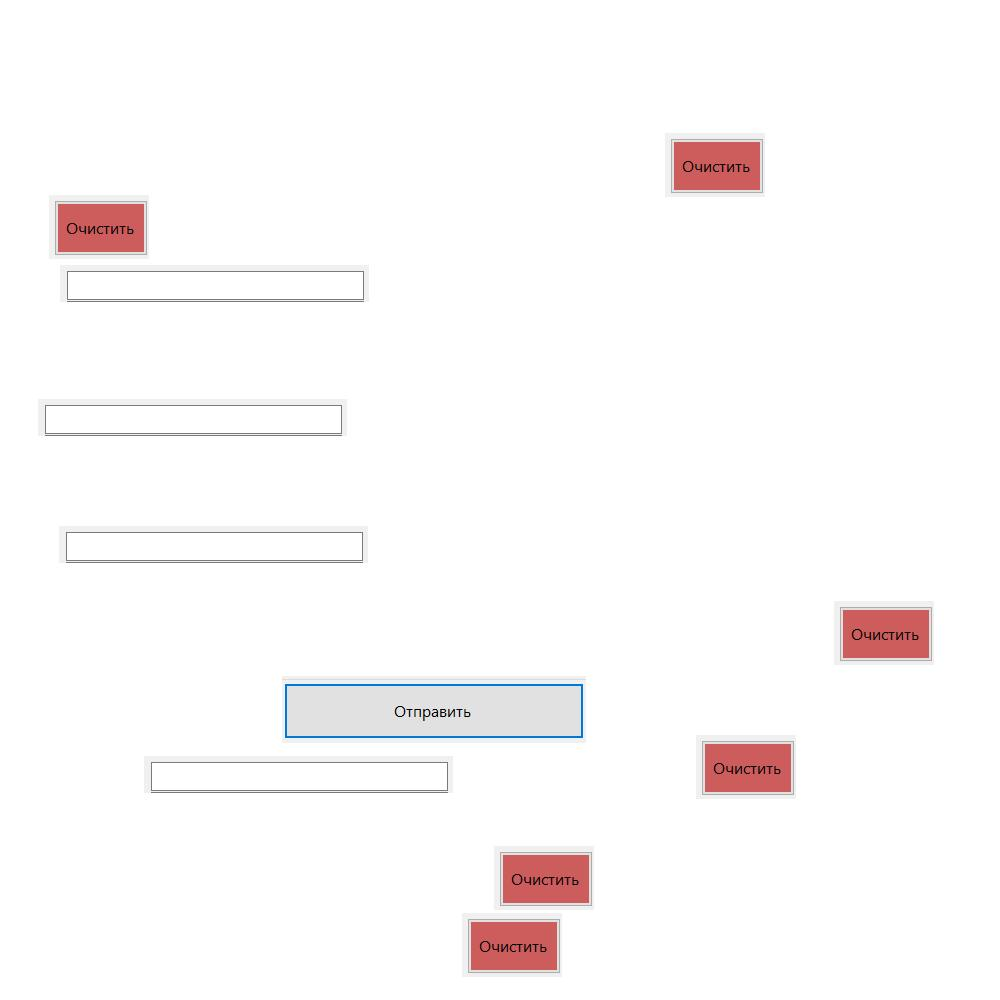Button: (282, 676, 586, 743), (665, 133, 765, 197), (834, 601, 934, 665), (494, 846, 594, 910), (462, 913, 562, 977), (49, 195, 149, 259), (696, 735, 796, 799)
EditText-: (144, 756, 453, 793), (60, 265, 369, 302), (59, 526, 368, 563), (38, 399, 347, 436)
